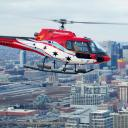helicopter: (2, 11, 125, 78)
